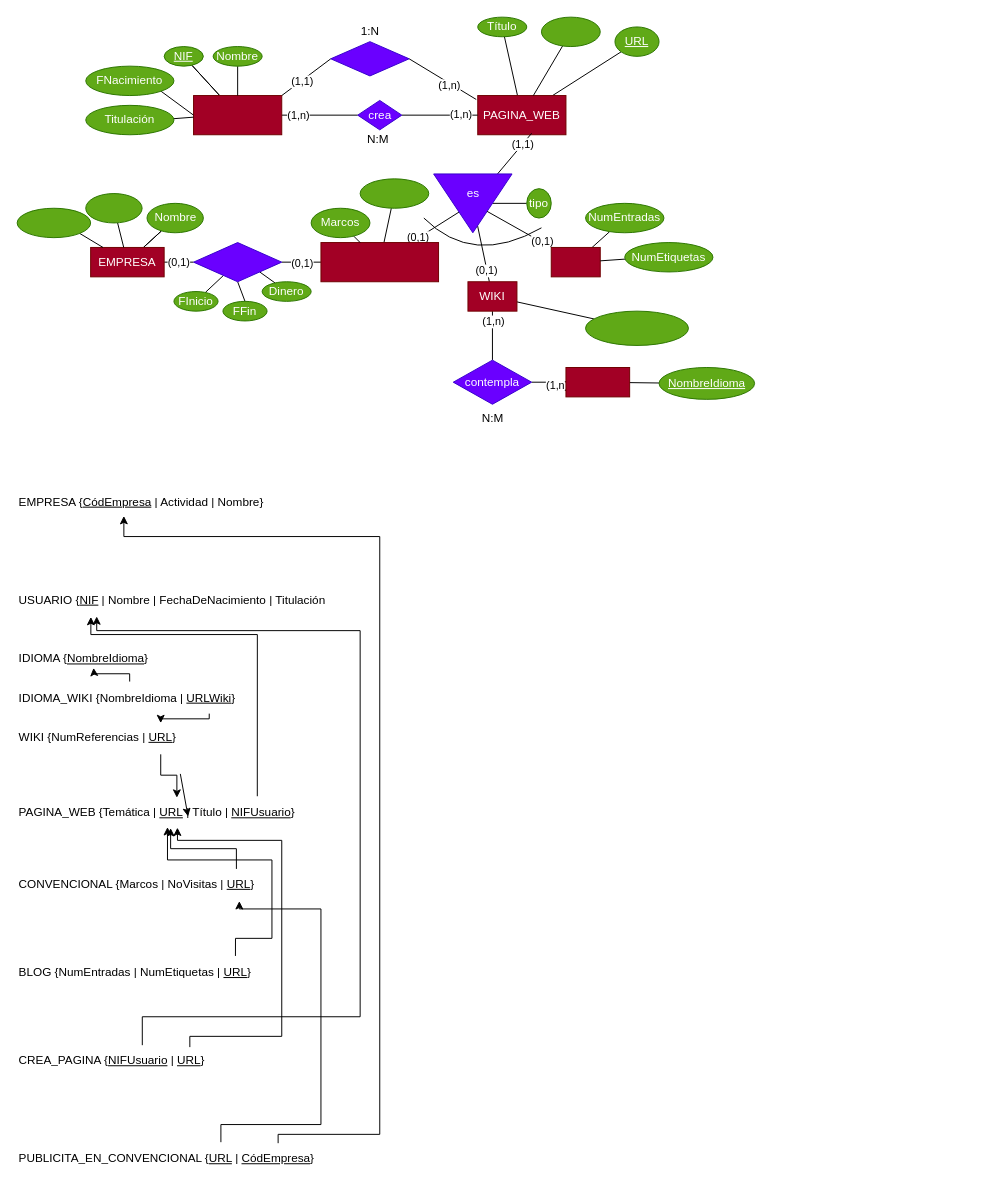
This 1005x1191 diagram has some shape labels left out. The centre of each missing label's shape, as x and y in pixels:
Actividad: [113,208]
BLOG: [575,261]
CodEmpresa: [53,222]
CONVENCIONAL: [379,262]
es autor: [369,58]
IDIOMA: [597,382]
NumReferencias: [636,327]
NumVisitas: [394,193]
se_publicita: [237,262]
Temática: [570,31]
USUARIO: [237,115]
